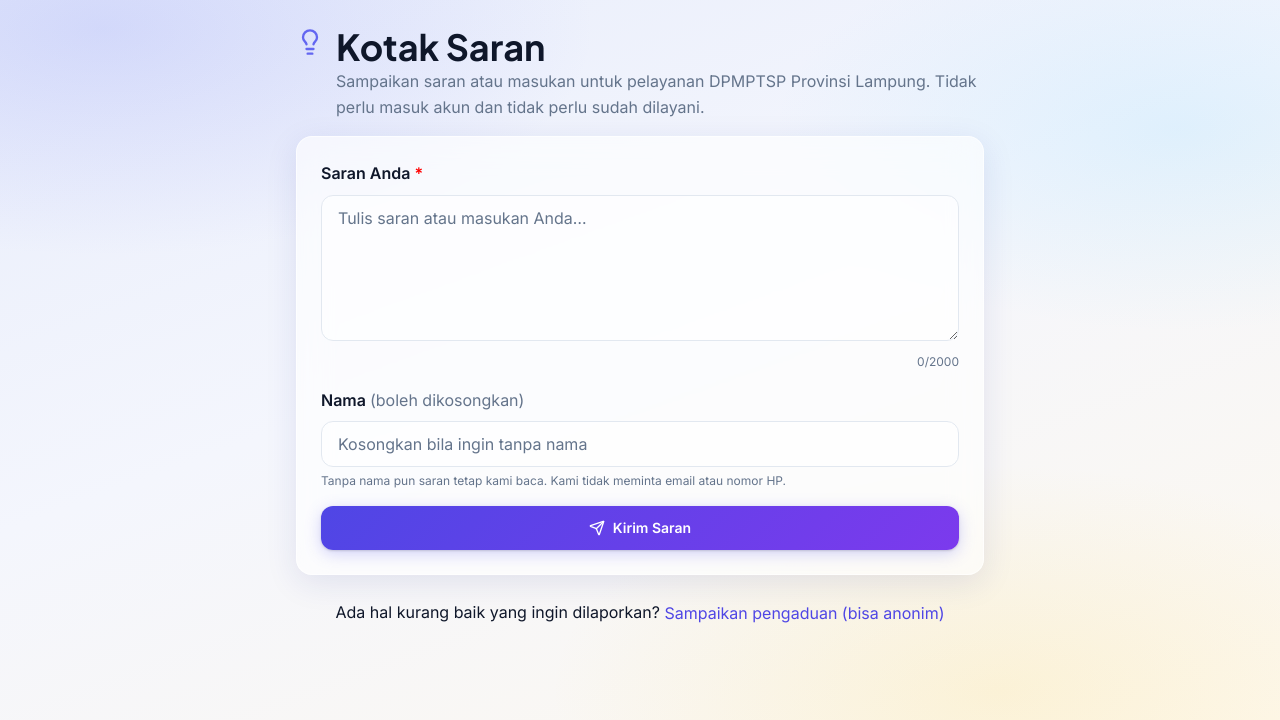
it: /saran (publik) › saran terlalu pendek ditolak di klien tanpa memanggil API
Type "oke" into the text box labelled "Saran Anda *". click: (640, 268)
box: [321,195,959,341]
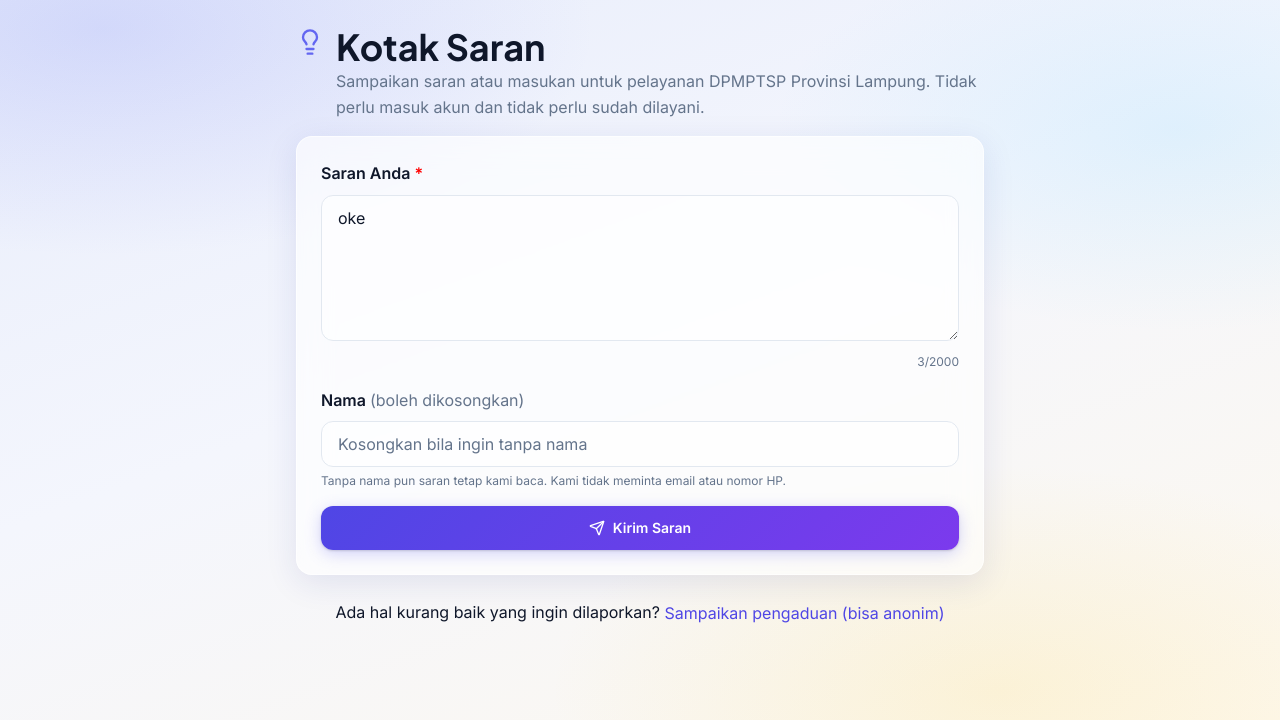
Click the button "Kirim Saran". click: (640, 528)
box: [321,506,959,550]
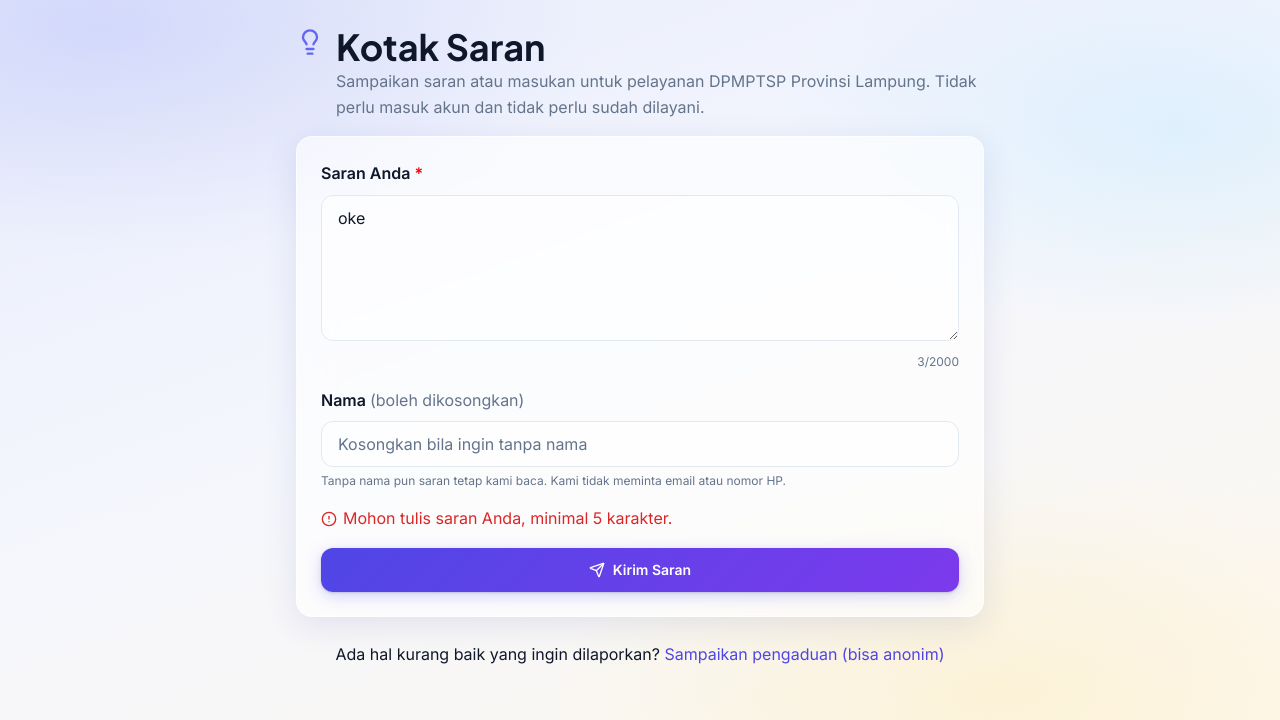
expect the message shows "minimal 5 karakter": met, box [343,508,672,528]
